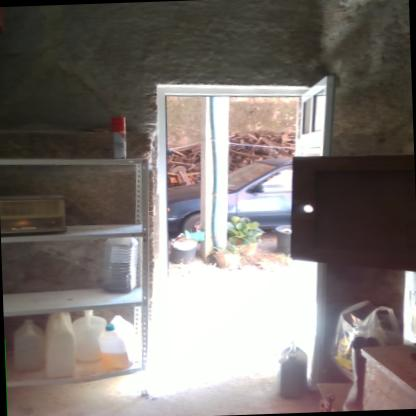open: (132, 68, 350, 394)
